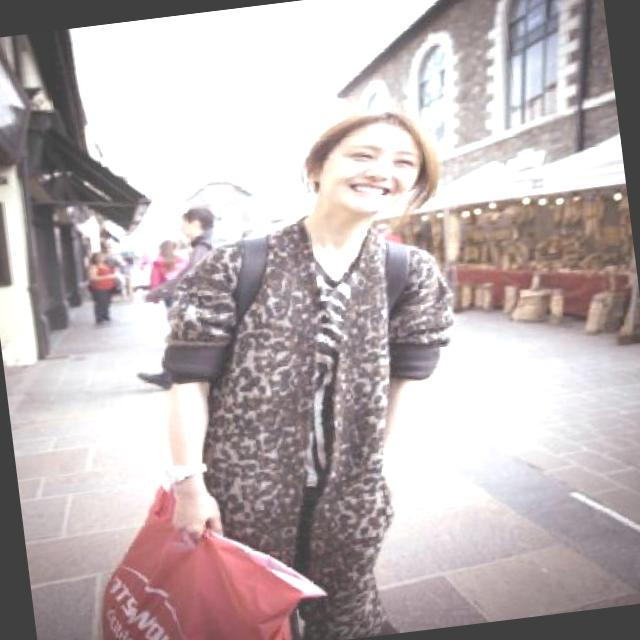Person: (114, 98, 500, 640)
